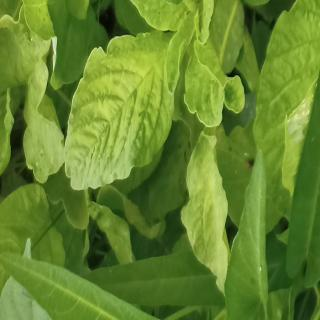karat_putih: (280, 59, 320, 160)
